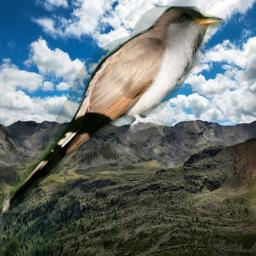Cuckoo: (0, 6, 225, 213)
